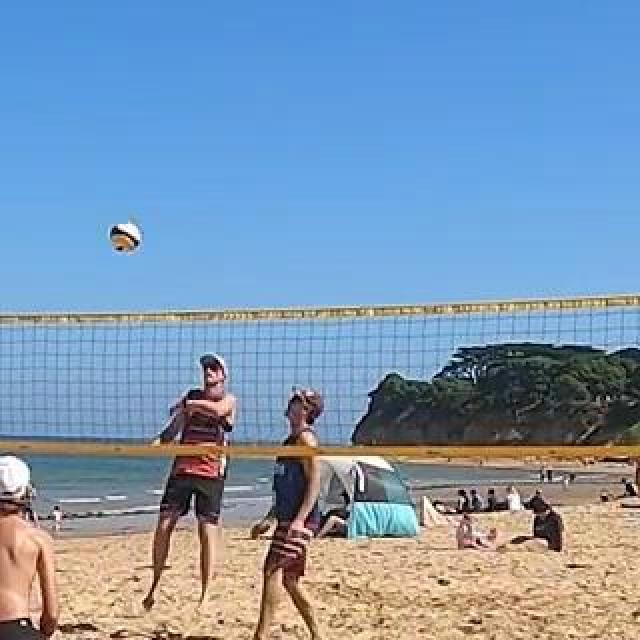volleyball: (110, 223, 140, 253)
